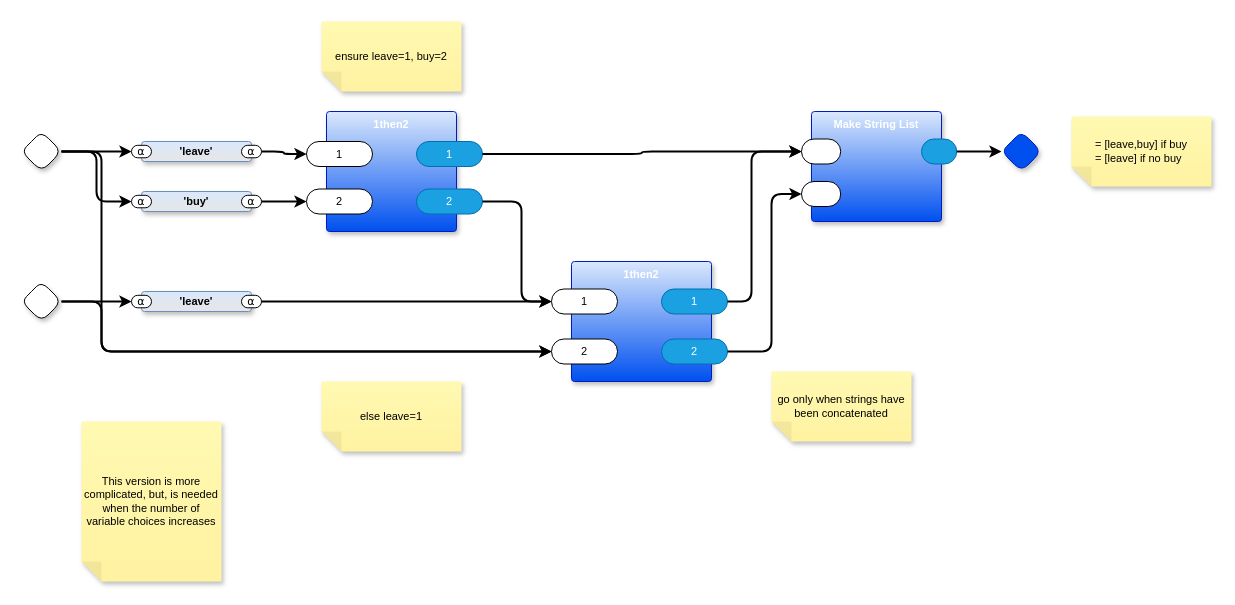
This 1235x605 diagram has some shape labels left out. The shapes that lost their labels are listed below. From the top down, each one's centre as x and y in pixels, then its label:
At point 42,152: "buy".
At point 820,151: "concat".
At point 820,193: "go".
At point 42,302: "no buy".
